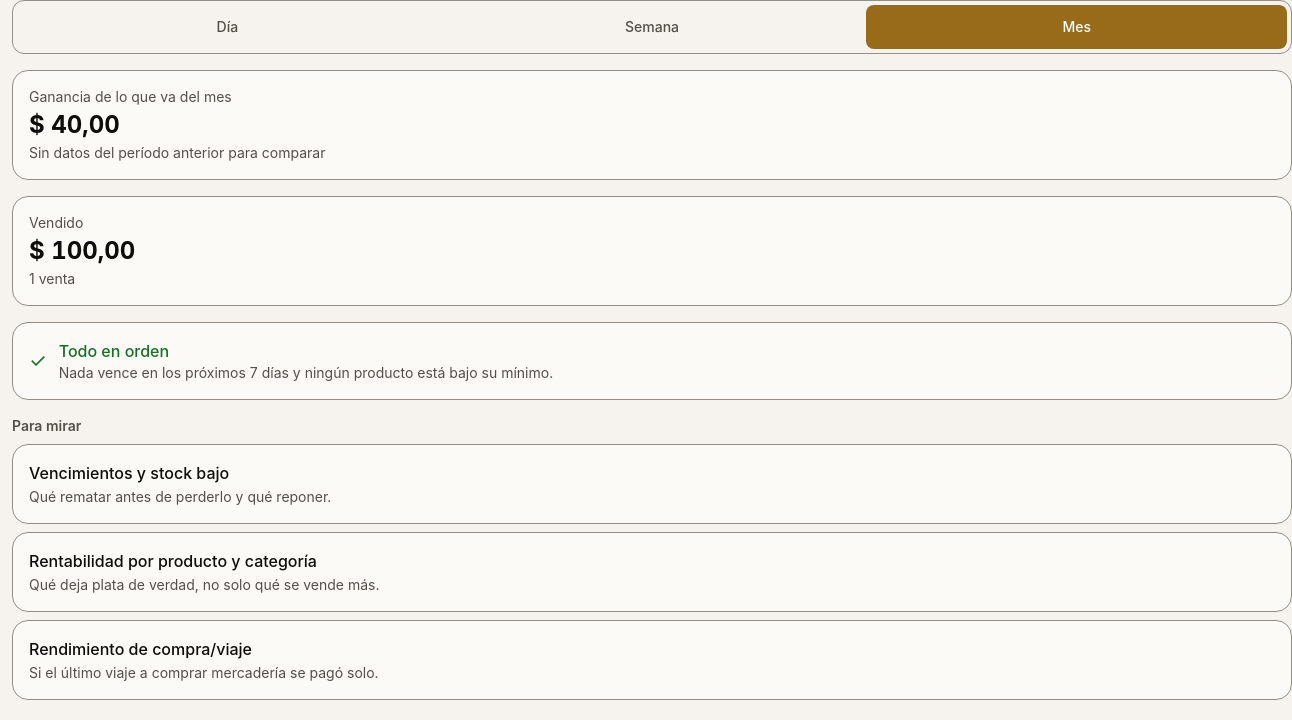
Reportes - período en curso (corrección post-review: nunca en curso vs. completo) › la corrección generaliza a otra granularidad: semana en curso también titula "lo que va de"
Click the button "Semana". click: (652, 27)
box: [442,5,862,49]
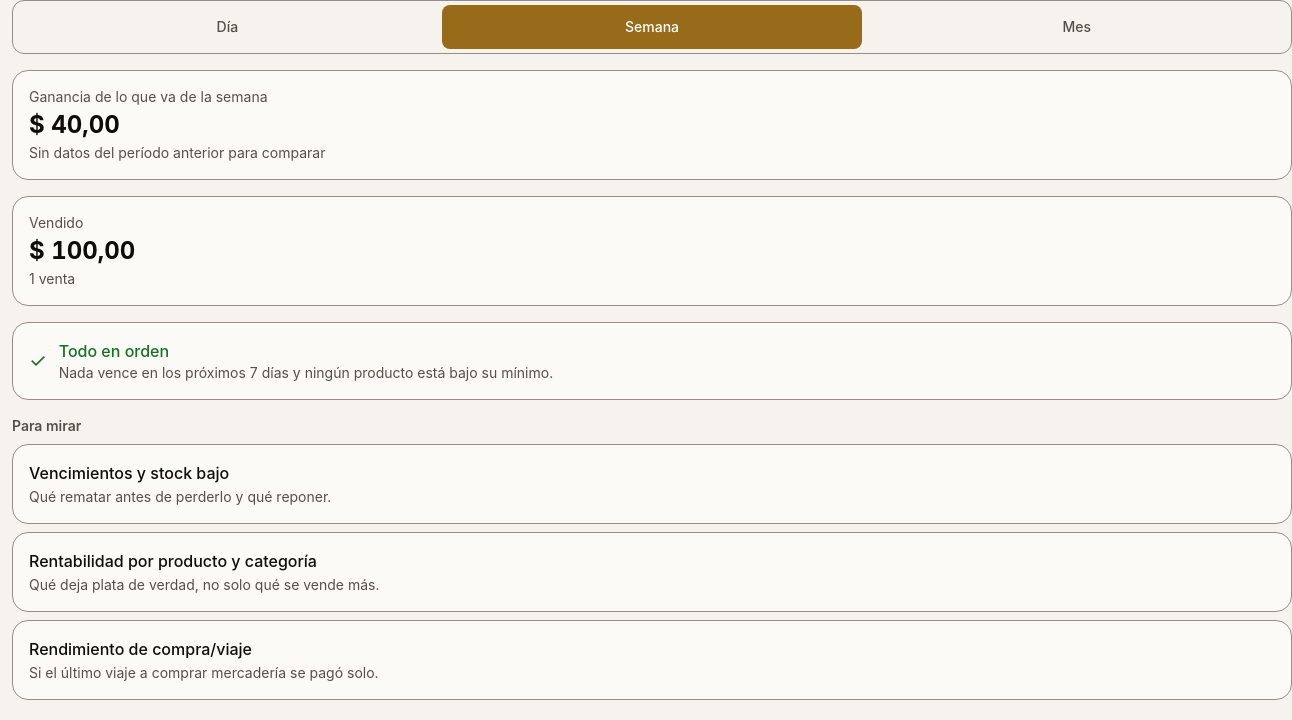
Result: the text "Ganancia de lo que va de la semana" is shown at [29,88,268,105]
